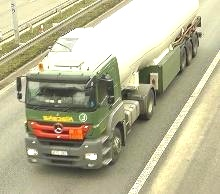truck: (16, 0, 201, 170)
